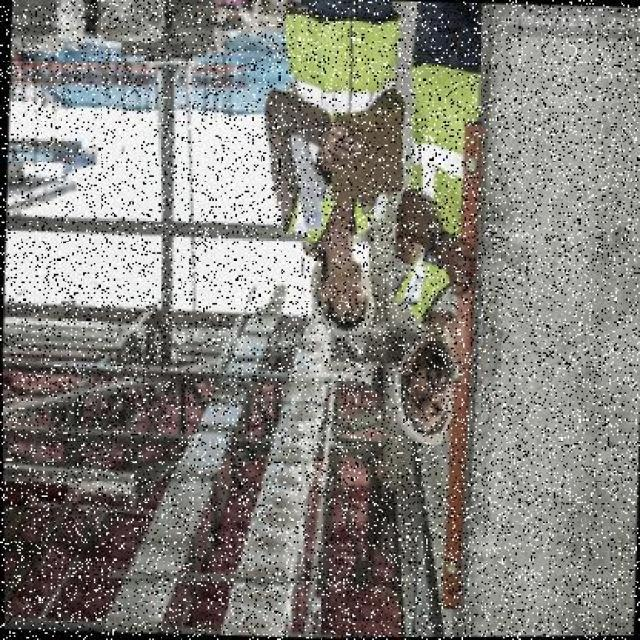vest: (282, 9, 388, 249), (396, 66, 465, 324)
